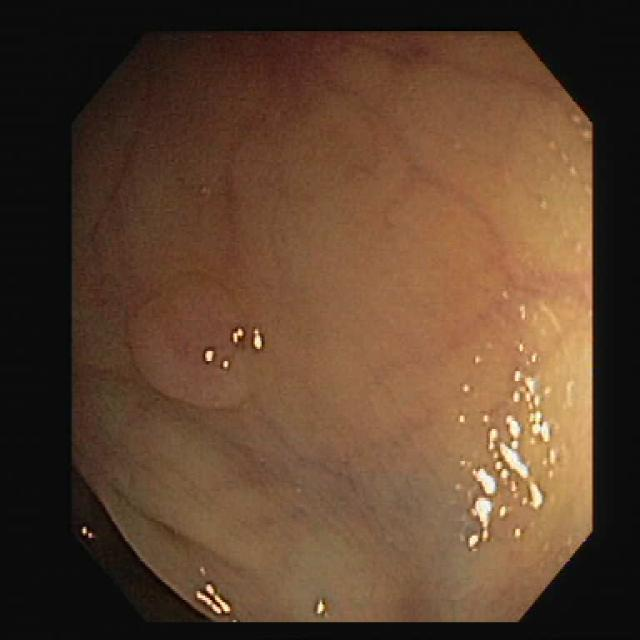tumor: (128, 267, 265, 407)
